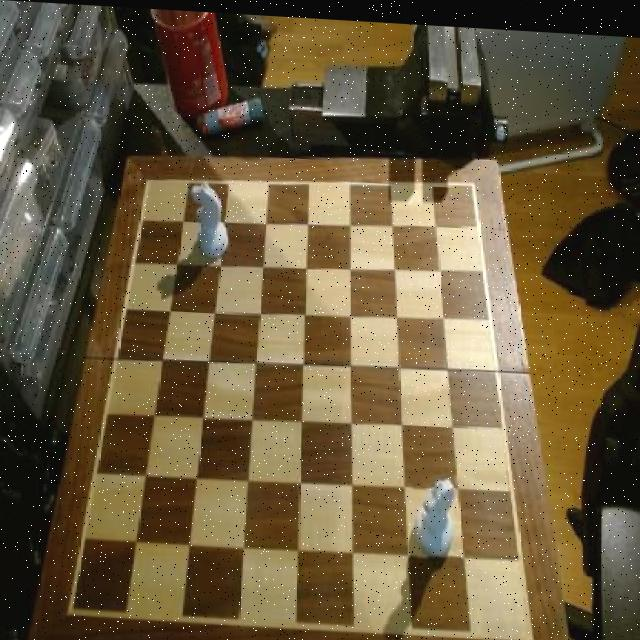white-king: (414, 469, 459, 555), (191, 178, 231, 259)
